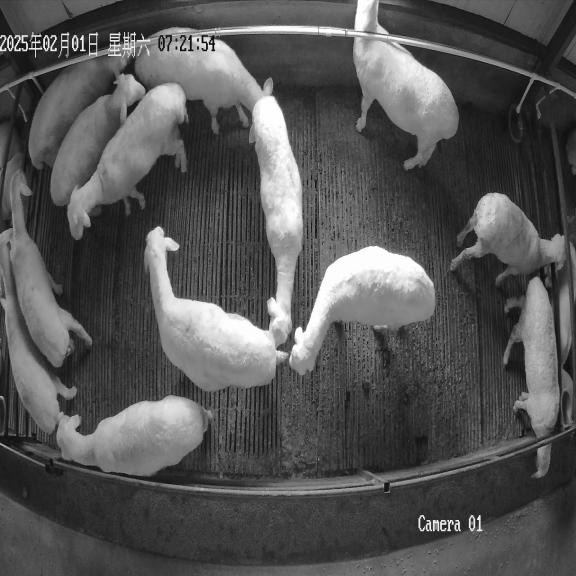eating: (503, 277, 560, 478)
stand: (145, 227, 287, 391), (289, 246, 435, 374), (68, 83, 188, 238), (353, 0, 459, 170), (9, 164, 92, 367), (28, 34, 151, 169), (0, 230, 76, 433), (135, 28, 273, 134), (250, 95, 303, 346), (56, 395, 211, 476), (52, 74, 145, 205), (450, 193, 565, 286)
